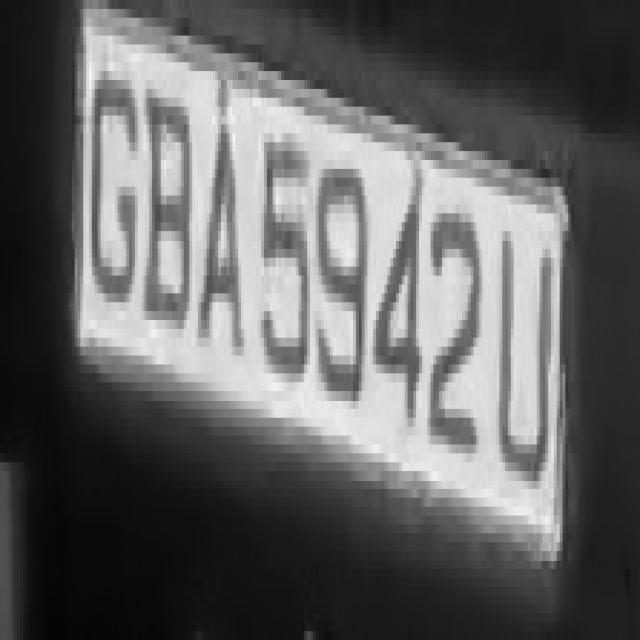2: (425, 169, 479, 480)
4: (370, 160, 428, 453)
5: (258, 98, 310, 409)
9: (304, 142, 373, 427)
A: (192, 71, 247, 382)
B: (138, 62, 195, 338)
G: (86, 54, 138, 302)
U: (491, 204, 557, 516)
